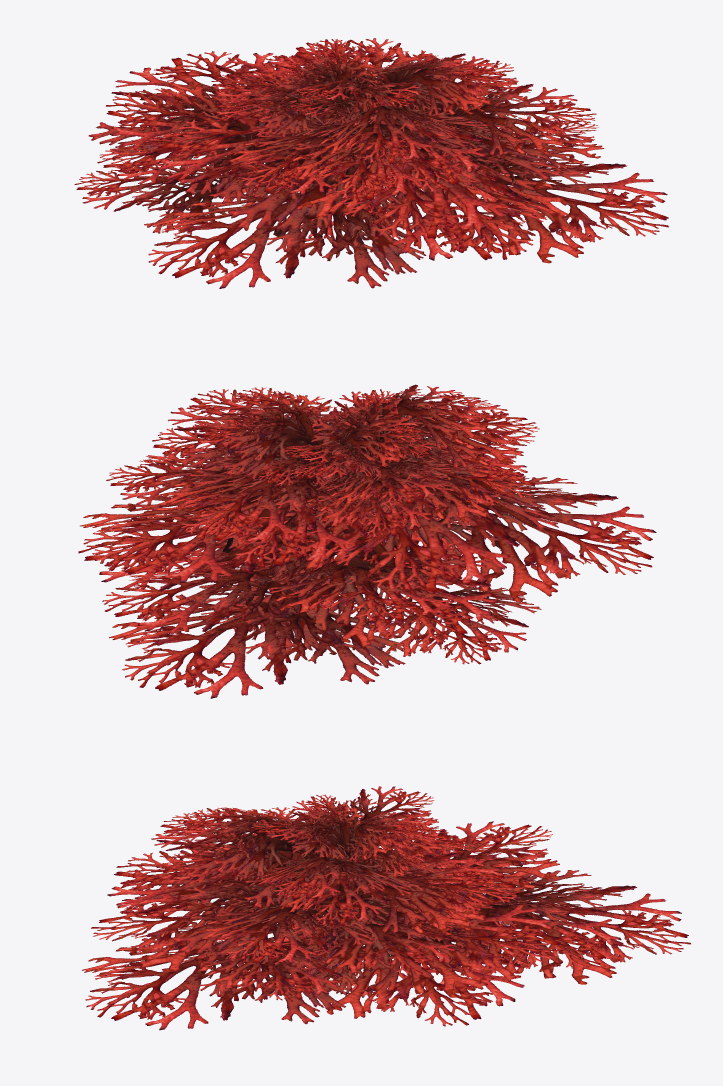
The model's file is Coral-Big_LOD1.fbx.
3 renders of one model, top to bottom at view 1: azimuth 30°, elevation 25°; view 2: azimuth 150°, elevation 25°; view 3: azimuth 270°, elevation 25°, orthographic. The views are drawn at different scales.
Visible parts, largest first — view 1: Coral-Big_LOD1; view 2: Coral-Big_LOD1; view 3: Coral-Big_LOD1.
Boxes of the visible parts, box(x1,y1,x2,y2) form: Coral-Big_LOD1: box(74, 38, 668, 288); Coral-Big_LOD1: box(78, 384, 656, 698); Coral-Big_LOD1: box(82, 786, 690, 1030).
Size of the model in its own units: 1.18 by 0.2512 by 1.26.
